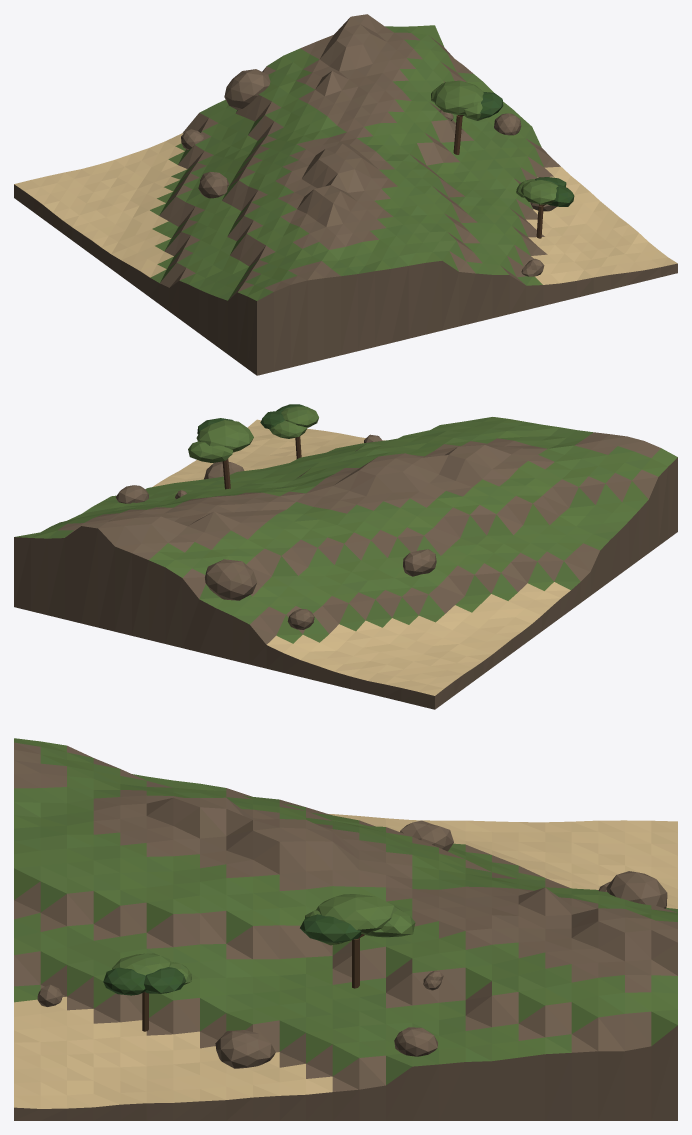
File: aravalli_ridge_terrain.glb
The picture shows the model from 3 angles, top to bottom: view 1: azimuth 30°, elevation 25°; view 2: azimuth 150°, elevation 25°; view 3: azimuth 270°, elevation 25°; orthographic projection. The views are drawn at different scales.
Visible parts, largest first — view 1: Terrain_secondary, Terrain_primary, Terrain_sand, Rocks, Canopy_primary, Canopy_foliage_dark; view 2: Terrain_secondary, Terrain_primary, Terrain_sand, Rocks, Canopy_primary, Canopy_foliage_dark; view 3: Terrain_secondary, Terrain_primary, Terrain_sand, Rocks, Canopy_primary, Canopy_foliage_dark, Trees.
Boxes of the visible parts, bbox=[...] form: Terrain_secondary: bbox=[14, 14, 677, 375]; Terrain_primary: bbox=[150, 25, 543, 300]; Terrain_sand: bbox=[14, 133, 677, 284]; Rocks: bbox=[181, 69, 556, 276]; Canopy_primary: bbox=[431, 80, 558, 204]; Canopy_foliage_dark: bbox=[464, 92, 574, 206]; Terrain_secondary: bbox=[14, 432, 677, 709]; Terrain_primary: bbox=[15, 417, 677, 643]; Terrain_sand: bbox=[153, 419, 570, 695]; Rocks: bbox=[115, 434, 436, 629]; Canopy_primary: bbox=[188, 406, 318, 462]; Canopy_foliage_dark: bbox=[197, 404, 305, 434]; Terrain_secondary: bbox=[14, 742, 677, 1120]; Terrain_primary: bbox=[14, 738, 677, 1084]; Terrain_sand: bbox=[14, 814, 677, 1108]; Rocks: bbox=[37, 820, 667, 1068]; Canopy_primary: bbox=[112, 894, 415, 984]; Canopy_foliage_dark: bbox=[103, 914, 361, 995]; Trees: bbox=[142, 934, 364, 1031].
Bounding box in the file's own units: 28 × 7.5 × 28.
